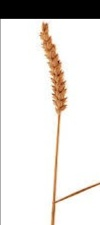wheat: (34, 22, 68, 111)
